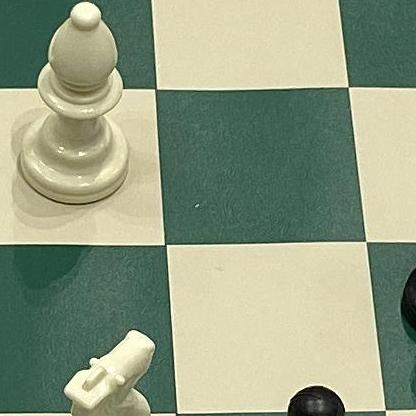black-bishop: (0, 0, 140, 213)
black-pawn: (244, 363, 364, 416), (388, 181, 416, 358)
white-knight: (12, 310, 177, 416)
